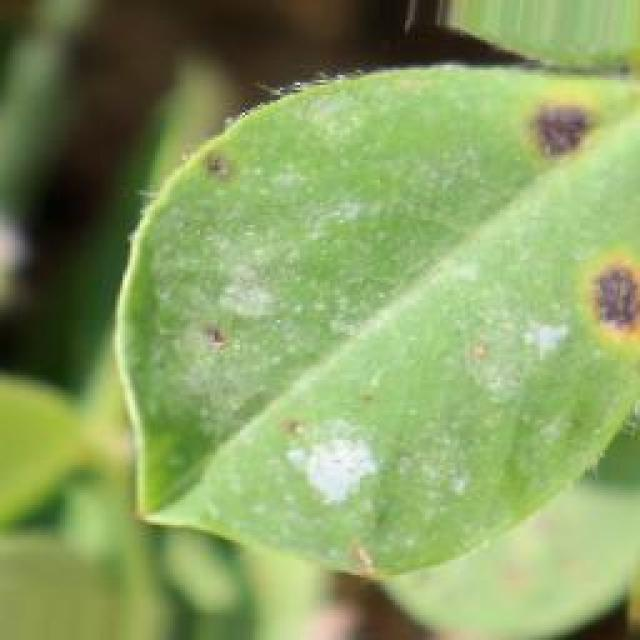Sigatoka: (558, 229, 640, 341), (307, 504, 407, 584), (508, 103, 608, 175), (187, 317, 279, 386), (466, 324, 540, 403), (181, 123, 252, 192), (264, 390, 314, 444)
